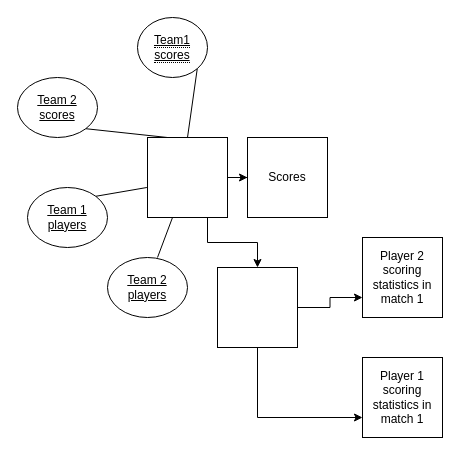
Some shapes in this 460 by 455 pixel diagram are drawn without their labels. The centre of each missing label's shape, as x and y in pixels:
Players in match 1: the point at 257,307
Volleyball Match of Schools: the point at 187,177
